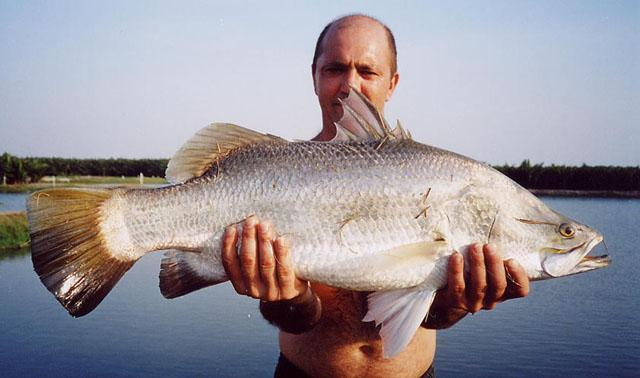Mulut: (538, 208, 630, 292)
Sirip Anal: (155, 237, 233, 306)
Sirip Dada: (320, 224, 464, 286)
Sirip Ekor: (11, 175, 151, 328)
Sirip Perut: (359, 272, 449, 366)
Sirip Punggung: (160, 74, 428, 194)
